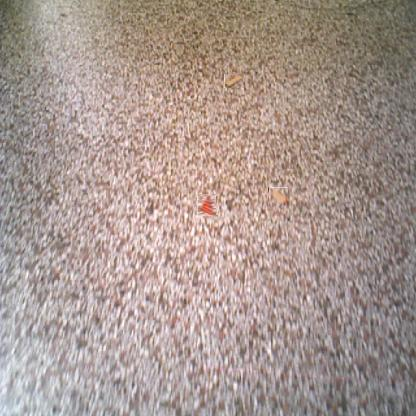dirty: (197, 195, 217, 216), (268, 187, 288, 206), (224, 74, 243, 88)
